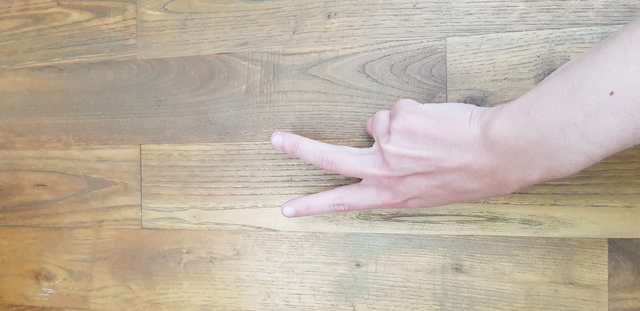Scissors: (241, 86, 569, 232)
